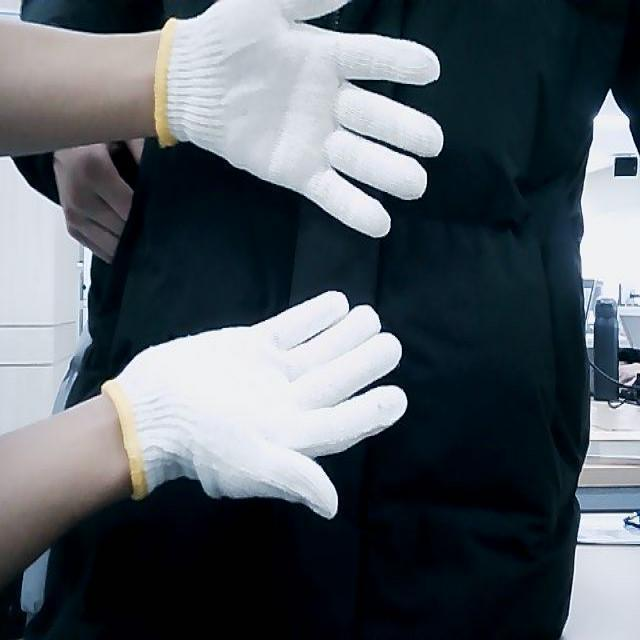gloves: (104, 289, 410, 522), (156, 0, 447, 239)
